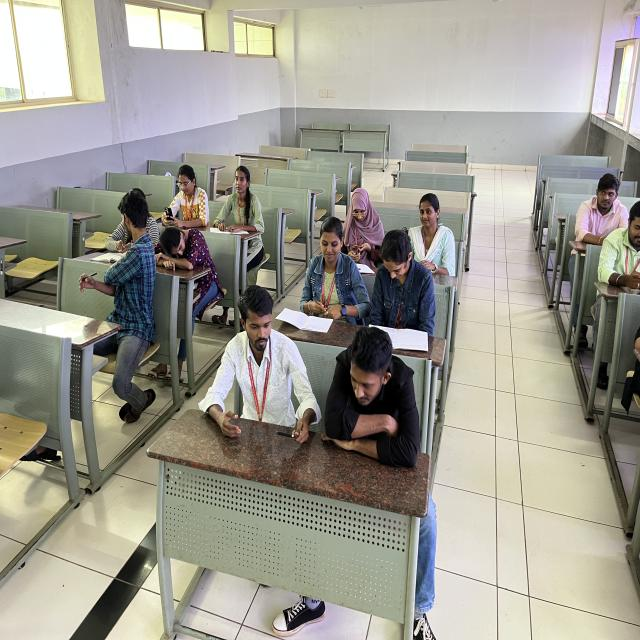Reading: (370, 231, 440, 341)
Sleeping: (321, 297, 432, 495), (156, 225, 220, 278)
Using Phone: (331, 182, 387, 265), (596, 199, 640, 298), (152, 160, 216, 228)
Writing: (287, 209, 366, 327)
